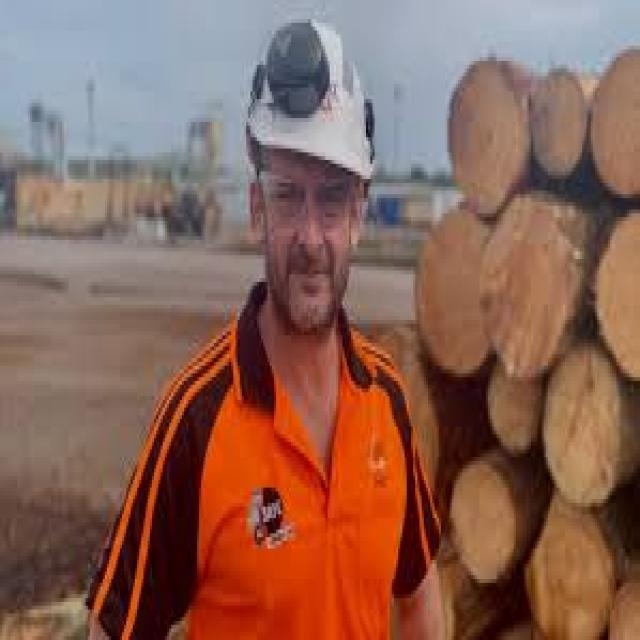Ear-Protection: (268, 11, 332, 114)
Helmet: (246, 19, 381, 179)
